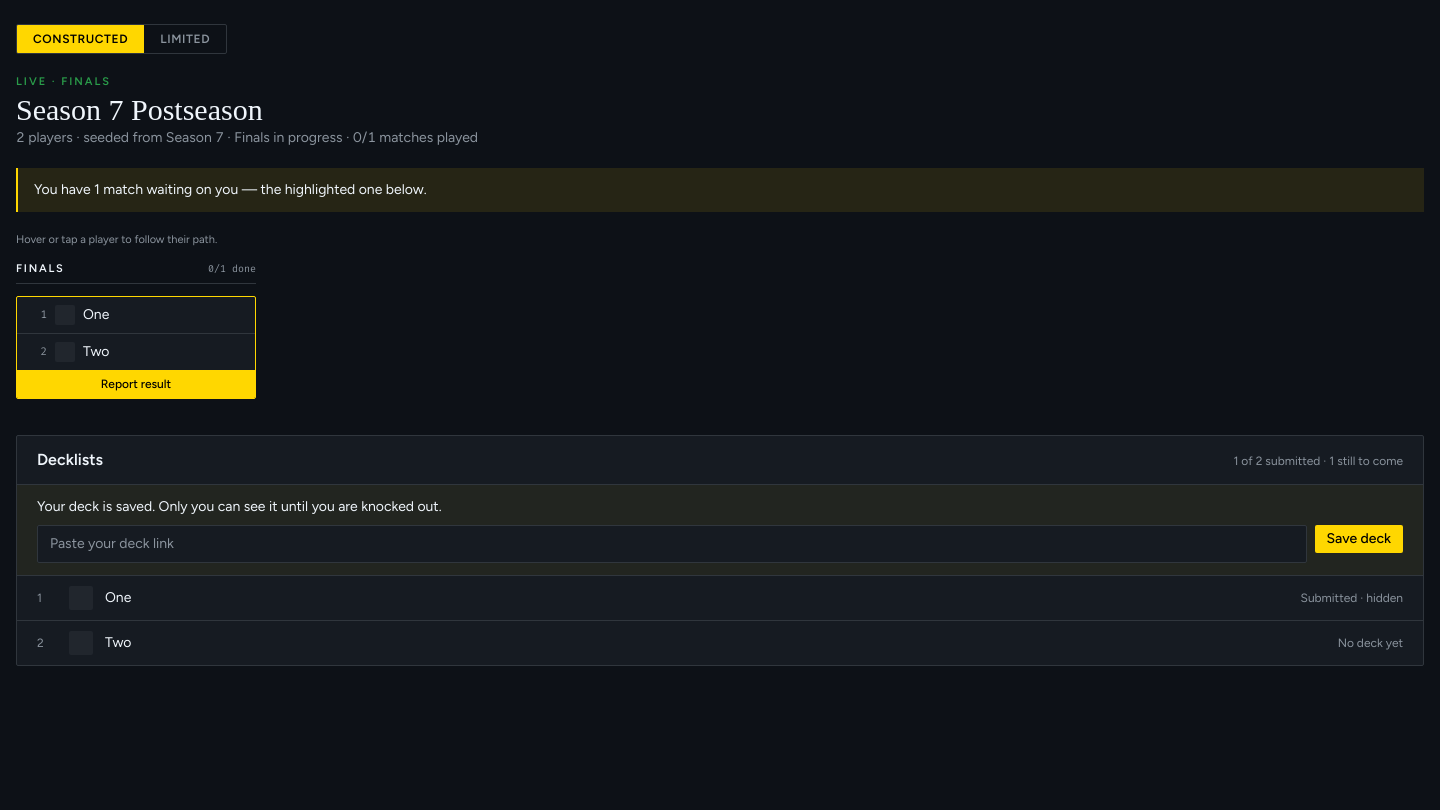
Bracket page › surfaces a rejected report
What coordinates should you click on to do the following:
click the button "Report result"
I would click on:
 (136, 384)
Its box is [17,370,255,398].
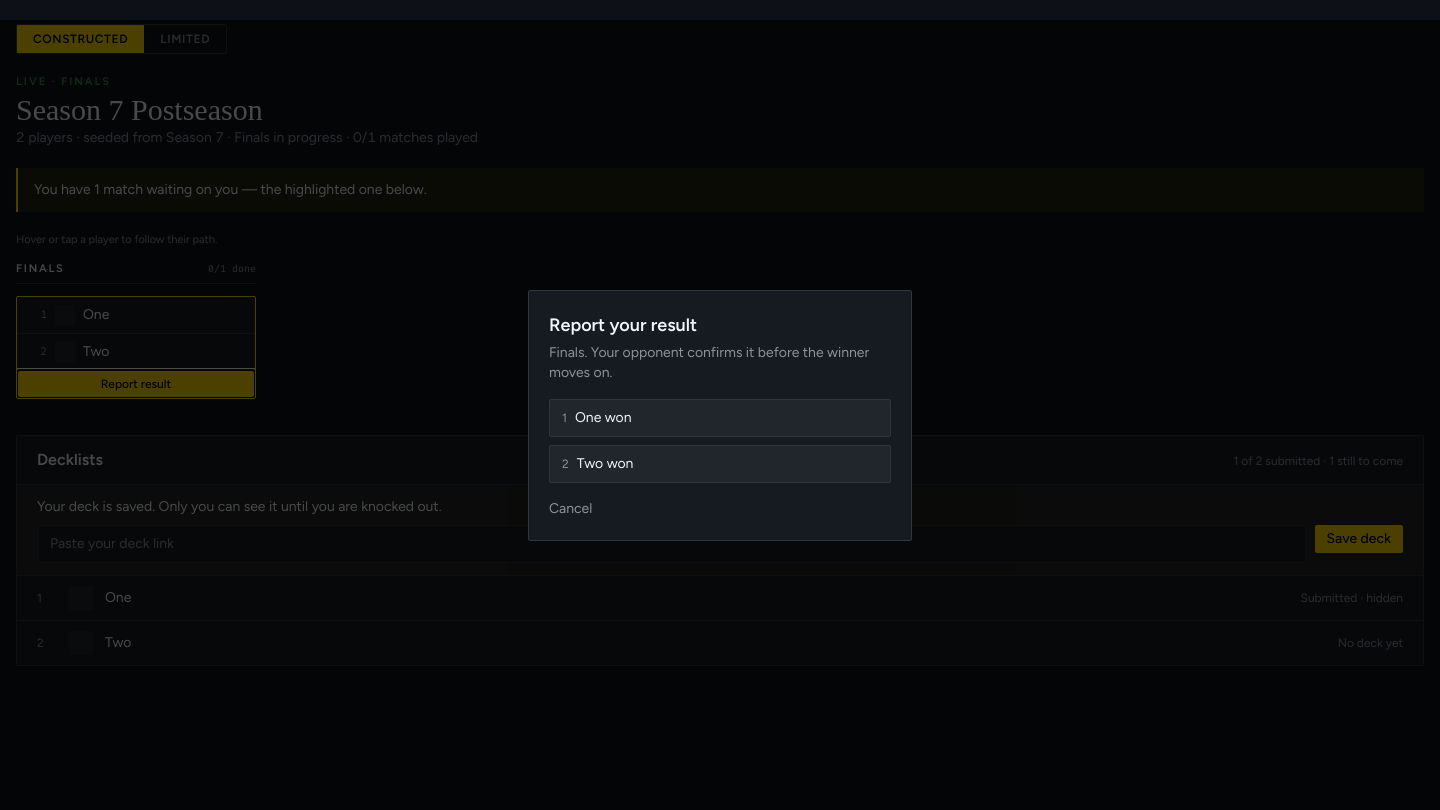
What coordinates should you click on to do the following:
click the button "2Two won"
I would click on:
 (618, 463)
Its box is [549,444,891,482].
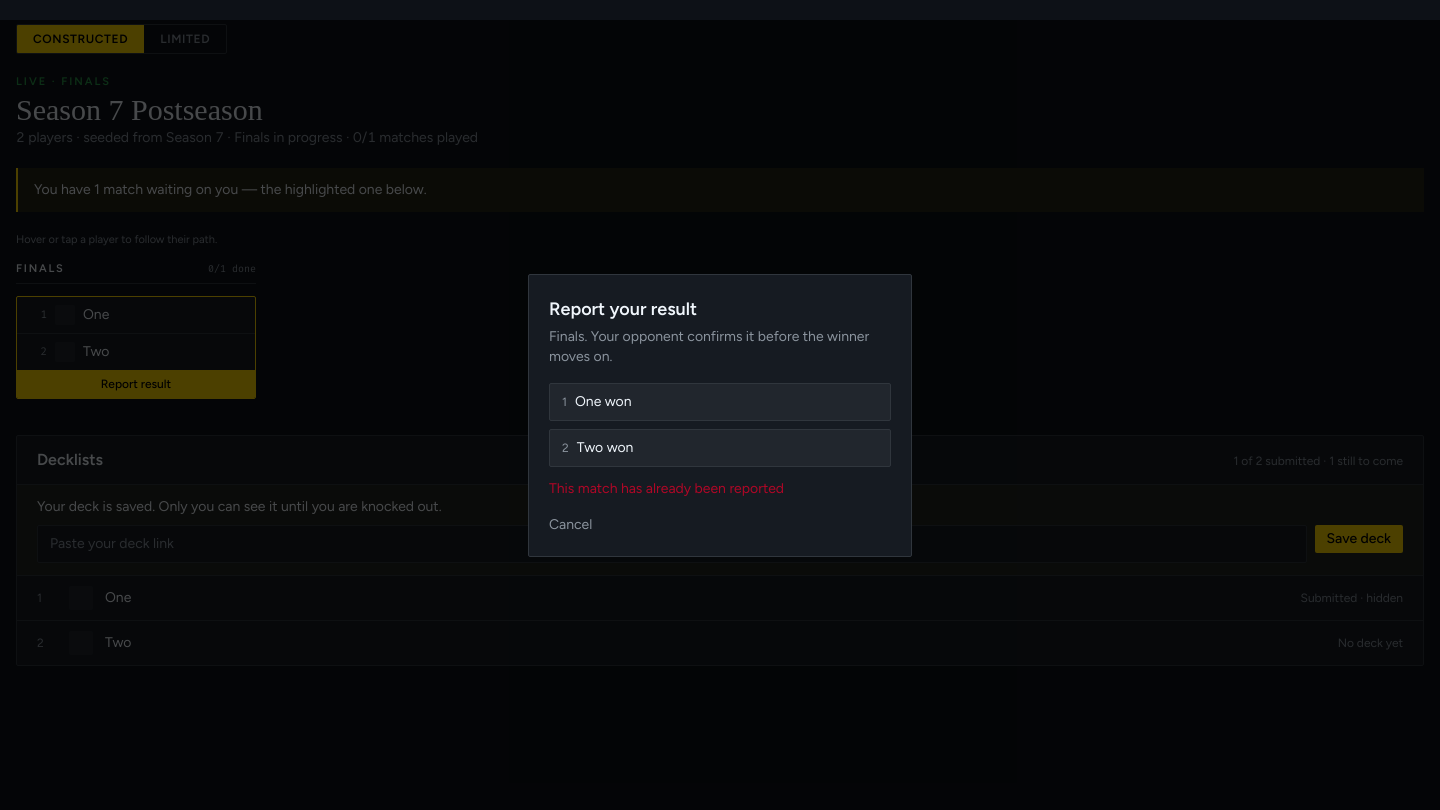
expect the text "This match has already been reported" is shown: met, box [549,480,784,496]
